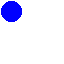circle: (1, 1, 21, 21)
